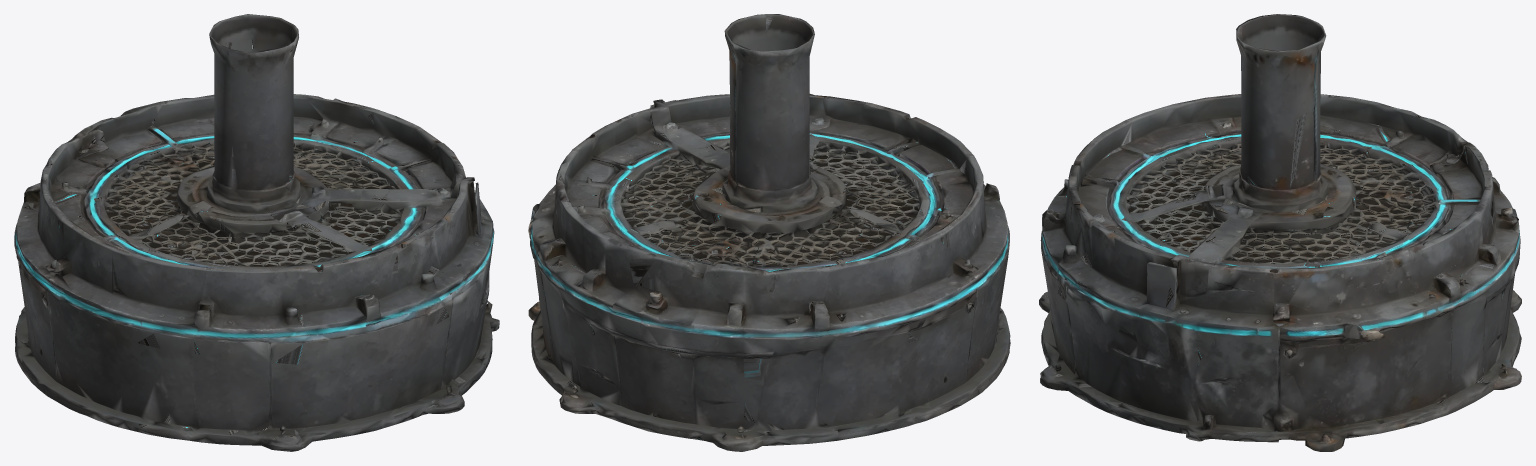
Rendered from stack_vent.glb.
3 views of the same model, side by side, from view 1: azimuth 30°, elevation 25°; view 2: azimuth 150°, elevation 25°; view 3: azimuth 270°, elevation 25° (orthographic).
Visible parts, largest first — view 1: tripo_node_5ca868dc-9fd7-4101-a1f9-a248d8302233; view 2: tripo_node_5ca868dc-9fd7-4101-a1f9-a248d8302233; view 3: tripo_node_5ca868dc-9fd7-4101-a1f9-a248d8302233.
Part boxes in pixels (bbox=[...]): tripo_node_5ca868dc-9fd7-4101-a1f9-a248d8302233: bbox=[14, 14, 499, 451]; tripo_node_5ca868dc-9fd7-4101-a1f9-a248d8302233: bbox=[528, 14, 1010, 451]; tripo_node_5ca868dc-9fd7-4101-a1f9-a248d8302233: bbox=[1039, 14, 1521, 451].
Bounding box in the file's own units: 0.9865 × 0.6994 × 0.9723.
1 material, 1 textured.
